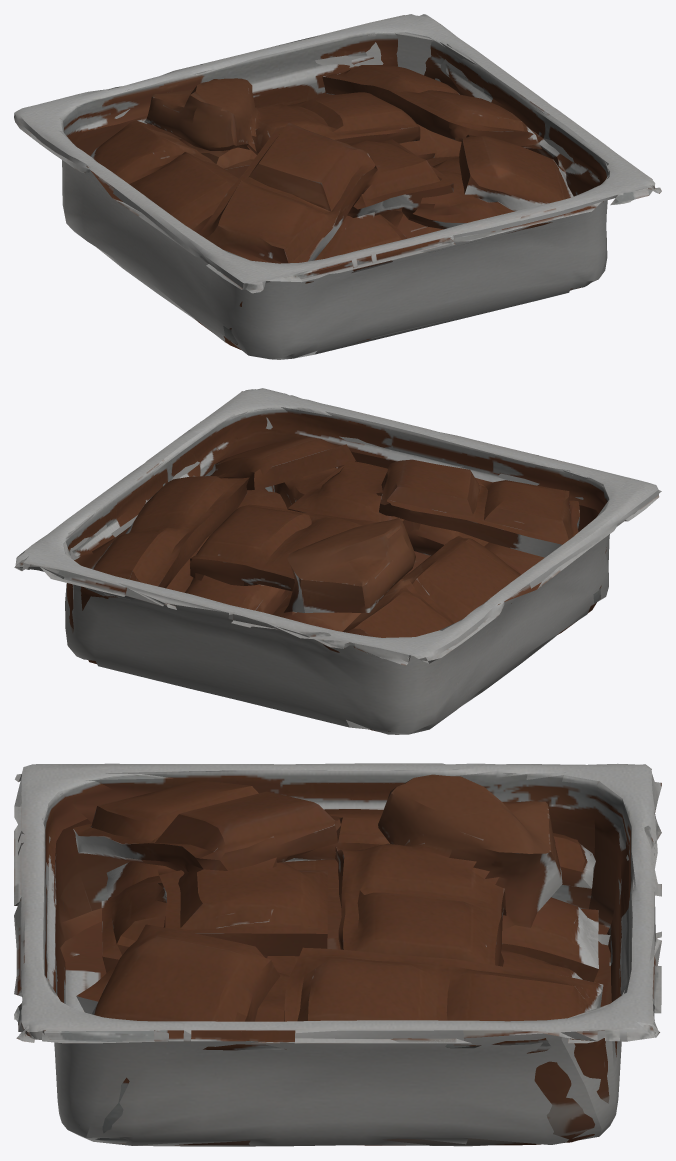
The model's file is Meshy_AI_Chocolate_Tray_0831085401_texture.fbx.
3 views of the same model, one above another, from view 1: azimuth 30°, elevation 25°; view 2: azimuth 150°, elevation 25°; view 3: azimuth 270°, elevation 25° (orthographic). The views are drawn at different scales.
Visible parts, largest first — view 1: Mesh0; view 2: Mesh0; view 3: Mesh0.
Boxes of the visible parts, x1,y1,x2,y2 form: Mesh0: (14,14,661,359); Mesh0: (14,388,661,734); Mesh0: (14,763,661,1146).
Size of the model in its own units: 190 by 64.18 by 191.
Materials: 1 (1 with a texture image).
